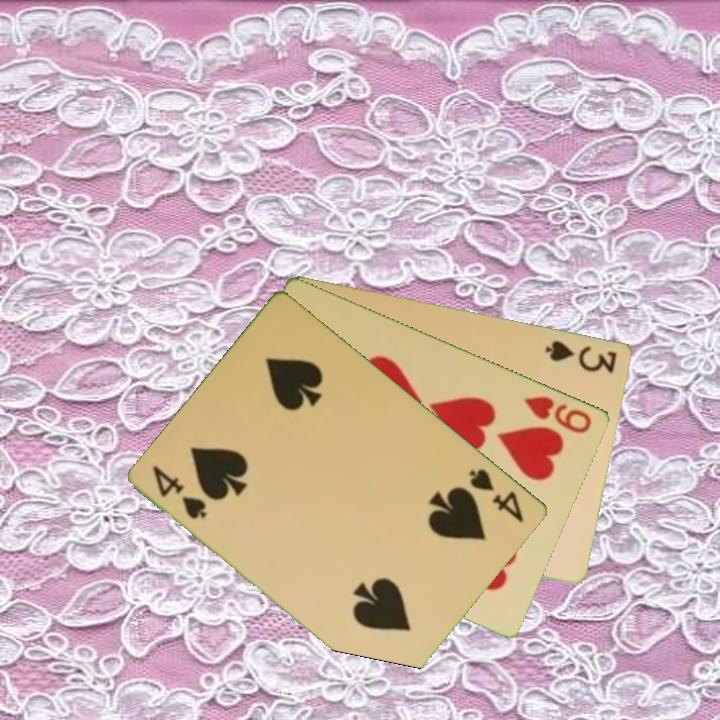3s: (542, 336, 621, 376)
4s: (466, 464, 528, 525), (149, 461, 210, 523)
9h: (521, 392, 595, 437)
